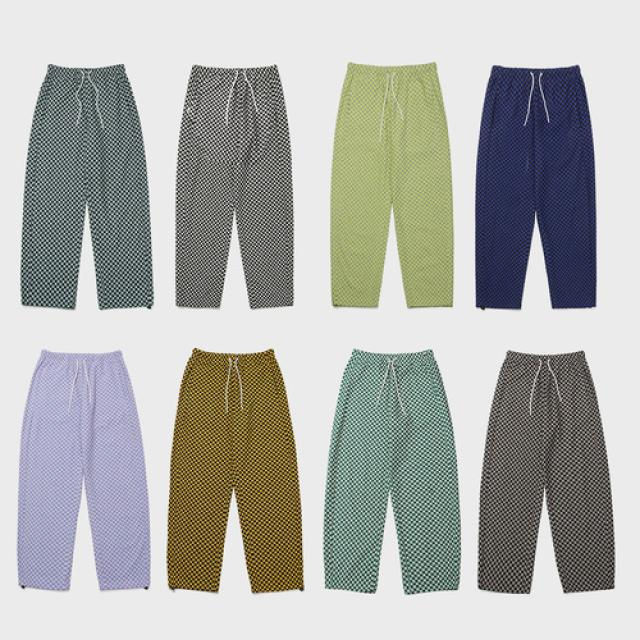dress: (7, 340, 162, 602), (314, 333, 468, 595), (166, 56, 311, 334), (160, 340, 311, 606), (15, 56, 159, 333), (316, 50, 465, 315), (471, 348, 629, 597), (466, 65, 613, 314)
